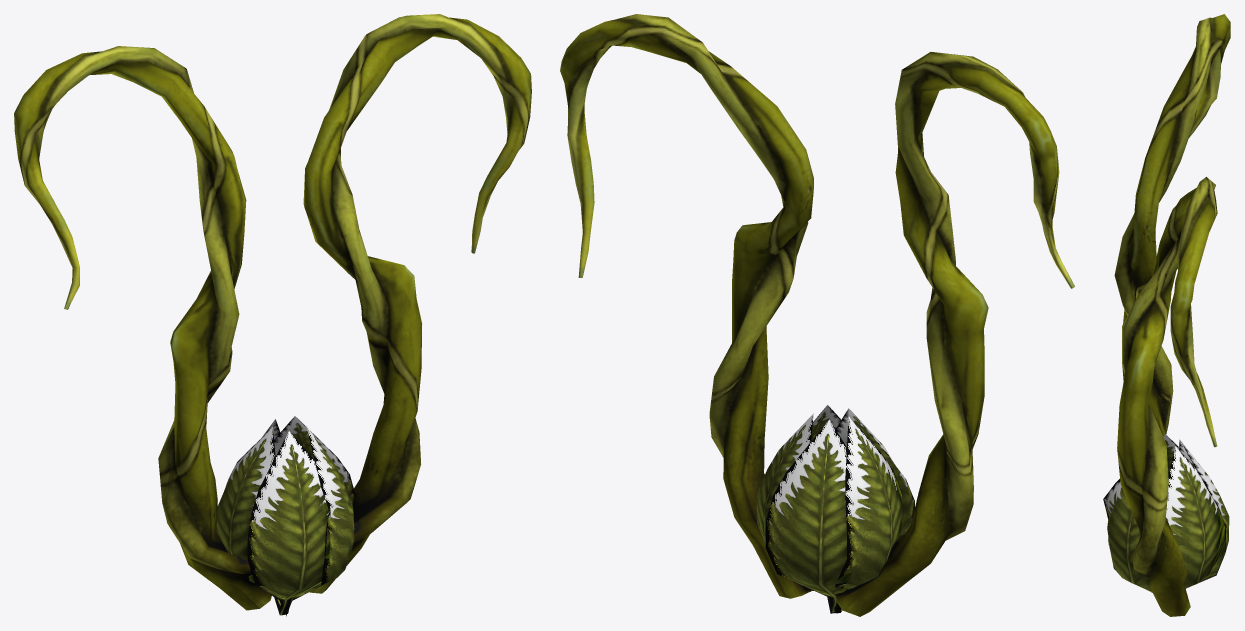
Rendered from 115-carnivora.glb.
The picture shows the model from 3 angles, left to right: view 1: azimuth 30°, elevation 25°; view 2: azimuth 150°, elevation 25°; view 3: azimuth 270°, elevation 25°; orthographic projection. The views are drawn at different scales.
Bounding box in the file's own units: 3.56 × 4.04 × 0.8962.
1 material, 1 textured.
